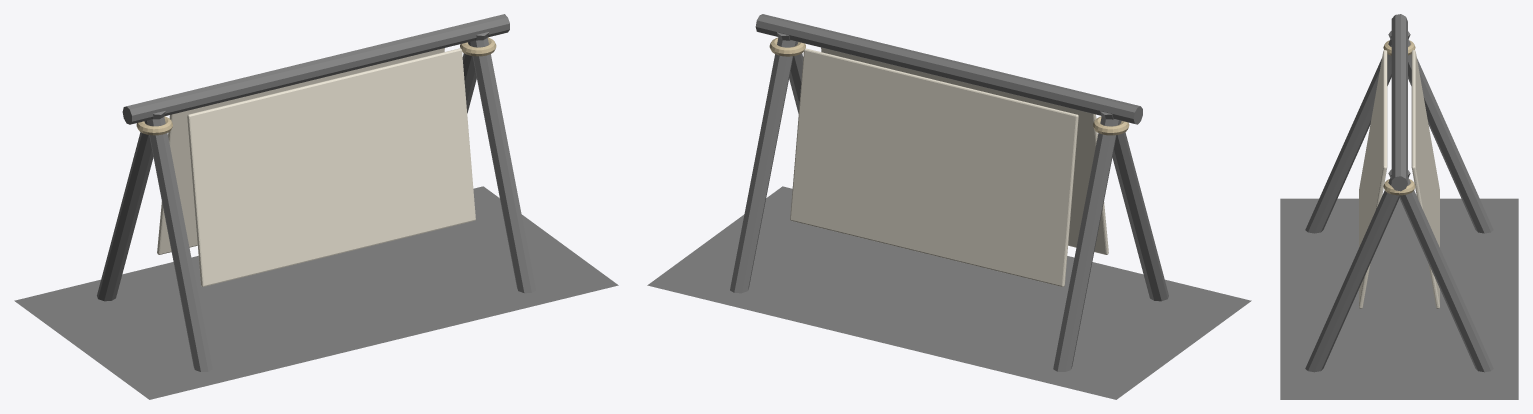
The model's file is drying-rack.glb.
3 renders of one model, left to right at view 1: azimuth 30°, elevation 25°; view 2: azimuth 150°, elevation 25°; view 3: azimuth 270°, elevation 25°, orthographic. The views are drawn at different scales.
Parts seen in each view (by area): view 1: ContactShadow, clothB, bar, leg.002, leg, clothF, leg.001, leg.003; view 2: ContactShadow, clothF, bar, leg.003, leg.001, clothB, leg, leg.002; view 3: ContactShadow, leg.003, leg.002, clothB, clothF, bar, leg, leg.001, lash.
Boxes of the visible parts, x1,y1,x2,y2 form: ContactShadow: (14, 186, 618, 399); clothB: (187, 48, 475, 286); bar: (122, 14, 509, 124); leg.002: (470, 38, 535, 293); leg: (147, 117, 212, 371); clothF: (157, 48, 444, 254); leg.001: (97, 111, 165, 301); leg.003: (462, 32, 488, 113); ContactShadow: (647, 186, 1251, 399); clothF: (790, 48, 1078, 286); bar: (755, 14, 1142, 124); leg.003: (730, 38, 795, 293); leg.001: (1053, 117, 1118, 371); clothB: (821, 47, 1108, 254); leg: (1100, 111, 1168, 301); leg.002: (777, 32, 803, 113); ContactShadow: (1280, 198, 1518, 399); leg.003: (1388, 169, 1493, 372); leg.002: (1305, 170, 1410, 372); clothB: (1359, 50, 1387, 308); clothF: (1411, 50, 1439, 308); bar: (1391, 14, 1407, 191); leg: (1305, 31, 1410, 233); leg.001: (1388, 31, 1493, 233); lash: (1383, 179, 1415, 195).
Size of the model in its own units: 1.8 by 0.89 by 0.9.
4 materials, 2 textured.
